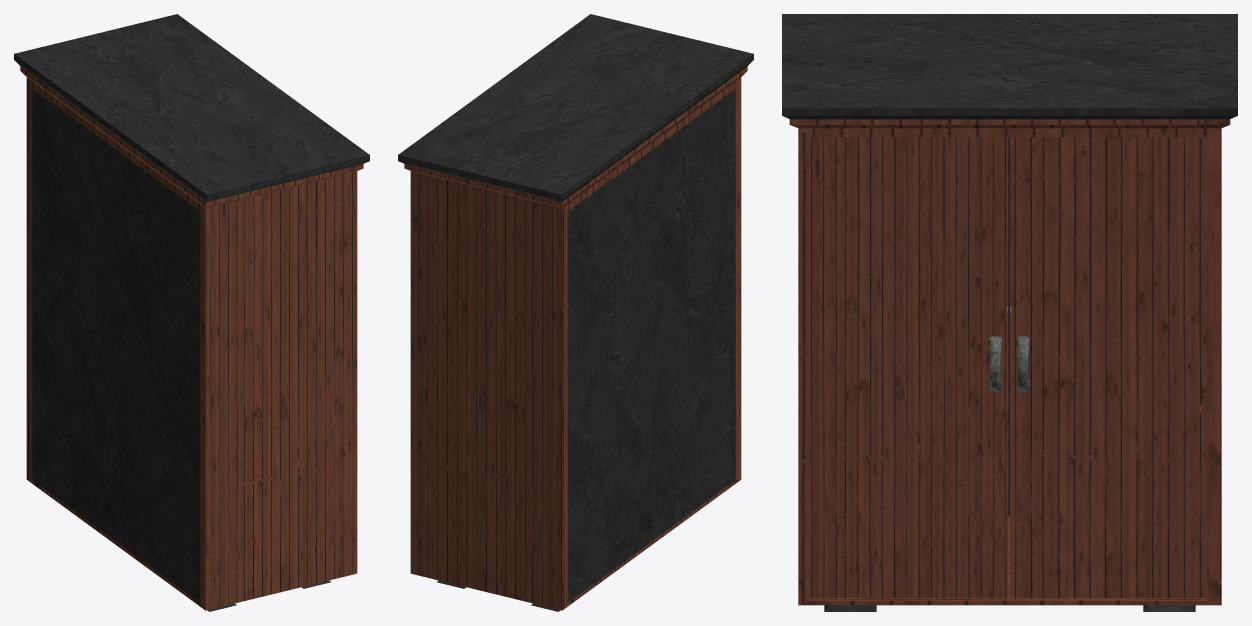
The model's file is wardrobe.fbx.
3 renders of one model, left to right at view 1: azimuth 30°, elevation 25°; view 2: azimuth 150°, elevation 25°; view 3: azimuth 270°, elevation 25°, orthographic. The views are drawn at different scales.
Visible parts, largest first — view 1: Main, BackDoorLeft, BackDoorRight; view 2: Main, BackDoorRight, BackDoorLeft; view 3: DoorRight, DoorLeft, Main, BackDoorLeft, HandleLeft, HandleRight.
Boxes of the visible parts, left/top/right/bottom form: Main: left=14, top=14, right=369, bottom=611; BackDoorLeft: left=116, top=150, right=200, bottom=602; BackDoorRight: left=32, top=89, right=116, bottom=540; Main: left=398, top=14, right=753, bottom=611; BackDoorRight: left=567, top=150, right=651, bottom=602; BackDoorLeft: left=652, top=89, right=735, bottom=540; DoorRight: left=1010, top=137, right=1208, bottom=598; DoorLeft: left=811, top=137, right=1008, bottom=598; Main: left=782, top=14, right=1237, bottom=611; BackDoorLeft: left=1008, top=137, right=1009, bottom=516; HandleLeft: left=988, top=336, right=1002, bottom=391; HandleRight: left=1016, top=336, right=1029, bottom=391.
Bounding box in the file's own units: 2.72 × 6.76 × 5.42.
